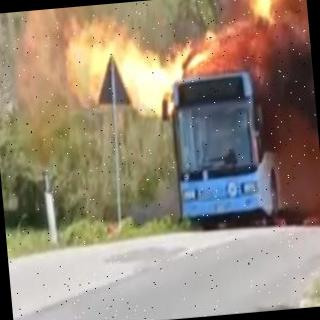smoke: (262, 118, 320, 218)
